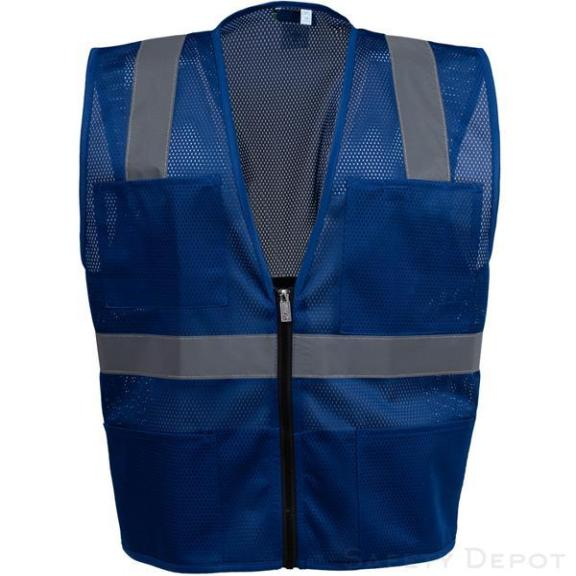safety_vest: (77, 1, 498, 575)
